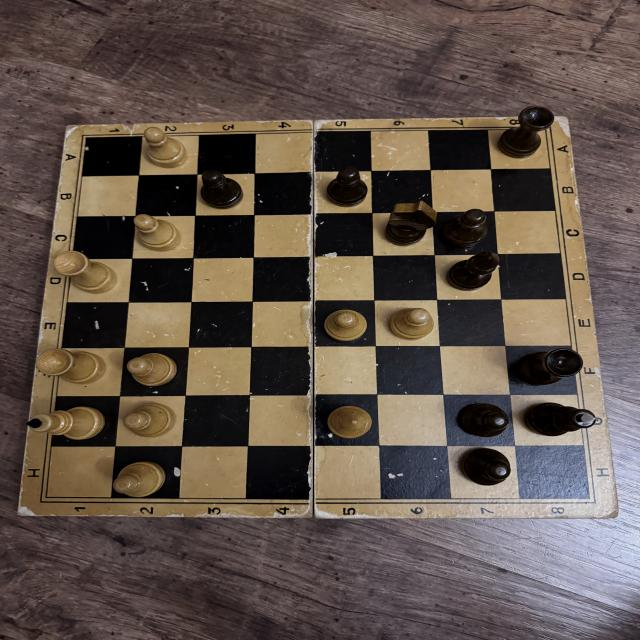black-bishop: (447, 250, 502, 291)
black-king: (526, 400, 597, 436)
black-knight: (385, 201, 436, 245)
black-pawn: (442, 206, 491, 249), (461, 446, 512, 487), (199, 168, 245, 208), (325, 166, 370, 206), (458, 403, 509, 436)
black-rook: (495, 106, 556, 160), (515, 347, 585, 388)
white-bishop: (328, 405, 373, 439)
white-king: (24, 403, 106, 440)
white-pawn: (142, 127, 188, 169), (134, 212, 180, 252), (112, 463, 164, 497), (125, 353, 178, 386), (123, 405, 174, 438), (324, 308, 369, 341), (390, 308, 435, 340)
white-rook: (54, 251, 119, 295), (35, 348, 108, 385)
